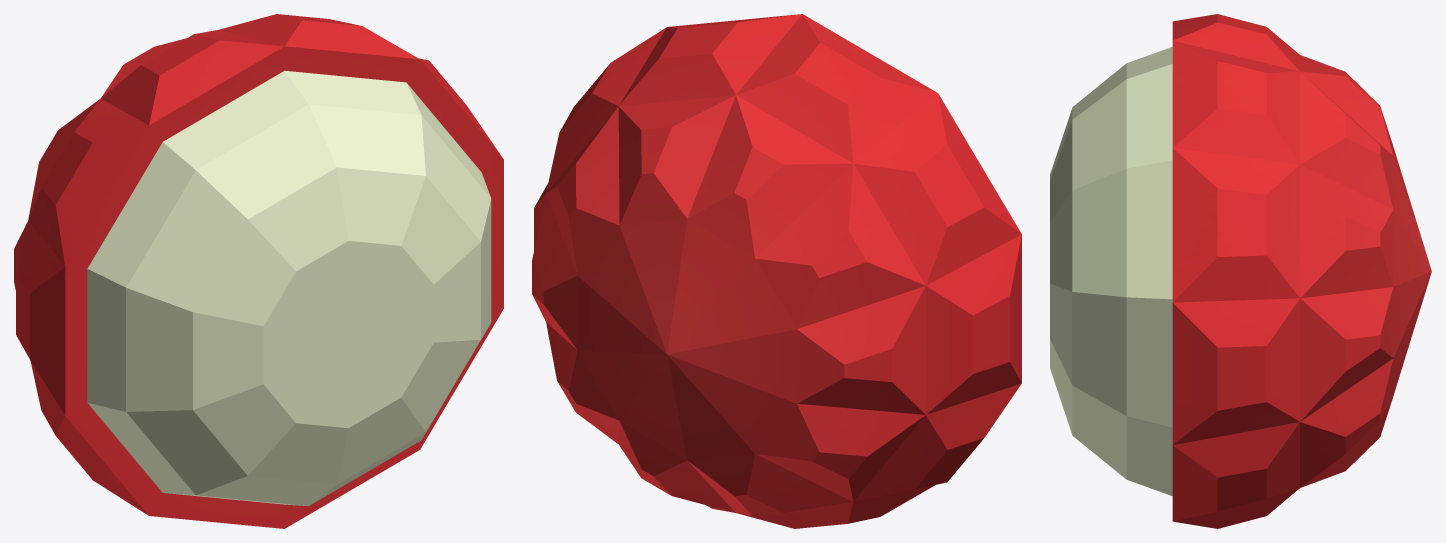
Rendered from Lychee Half.fbx.
3 renders of one model, left to right at view 1: azimuth 30°, elevation 25°; view 2: azimuth 150°, elevation 25°; view 3: azimuth 270°, elevation 25°, orthographic. The views are drawn at different scales.
Parts seen in each view (by area): view 1: Lychee Half; view 2: Lychee Half; view 3: Lychee Half.
Part boxes in pixels (x1,y1,x2,y2): Lychee Half: (14, 14, 503, 528); Lychee Half: (532, 14, 1021, 528); Lychee Half: (1050, 14, 1431, 528).
Size of the model in its own units: 7.96 by 7.95 by 5.96.
